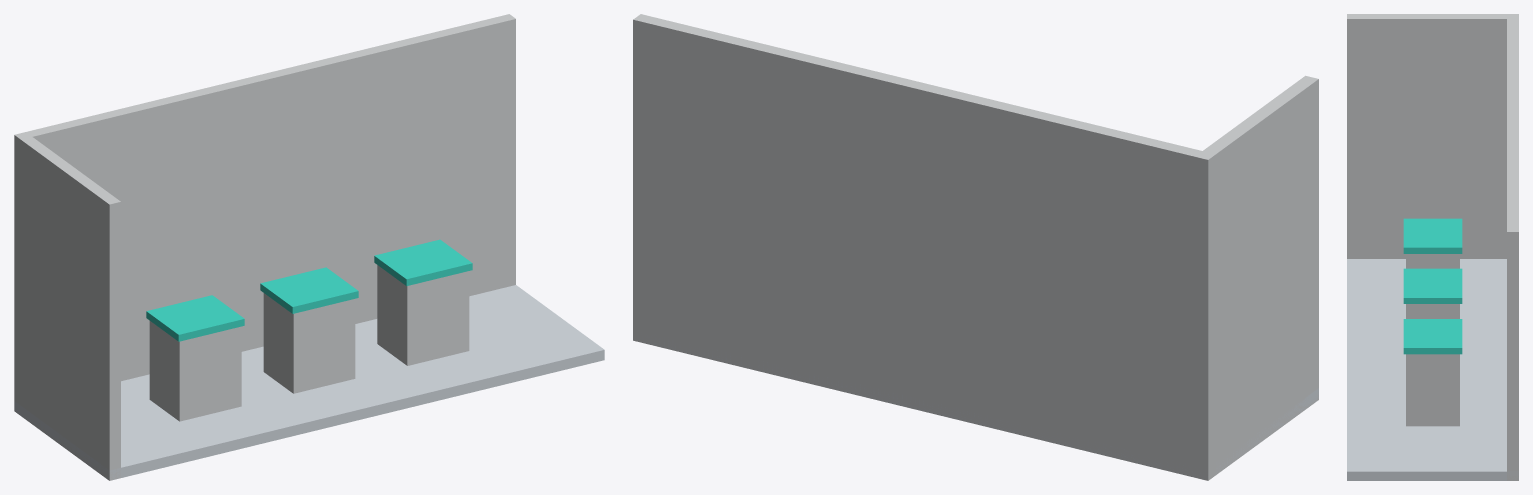
3 views of the same model, side by side, from view 1: azimuth 30°, elevation 25°; view 2: azimuth 150°, elevation 25°; view 3: azimuth 270°, elevation 25° (orthographic). The views are drawn at different scales.
Parts seen in each view (by area): view 1: Exhibition Booth Concept; view 2: Exhibition Booth Concept; view 3: Exhibition Booth Concept.
Part boxes in pixels (x1,y1,x2,y2): Exhibition Booth Concept: (14, 14, 604, 480); Exhibition Booth Concept: (633, 14, 1318, 480); Exhibition Booth Concept: (1347, 14, 1518, 480).
Bounding box in the file's own units: 6 × 3.2 × 2.
